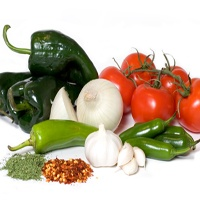background: (0, 8, 62, 55)
